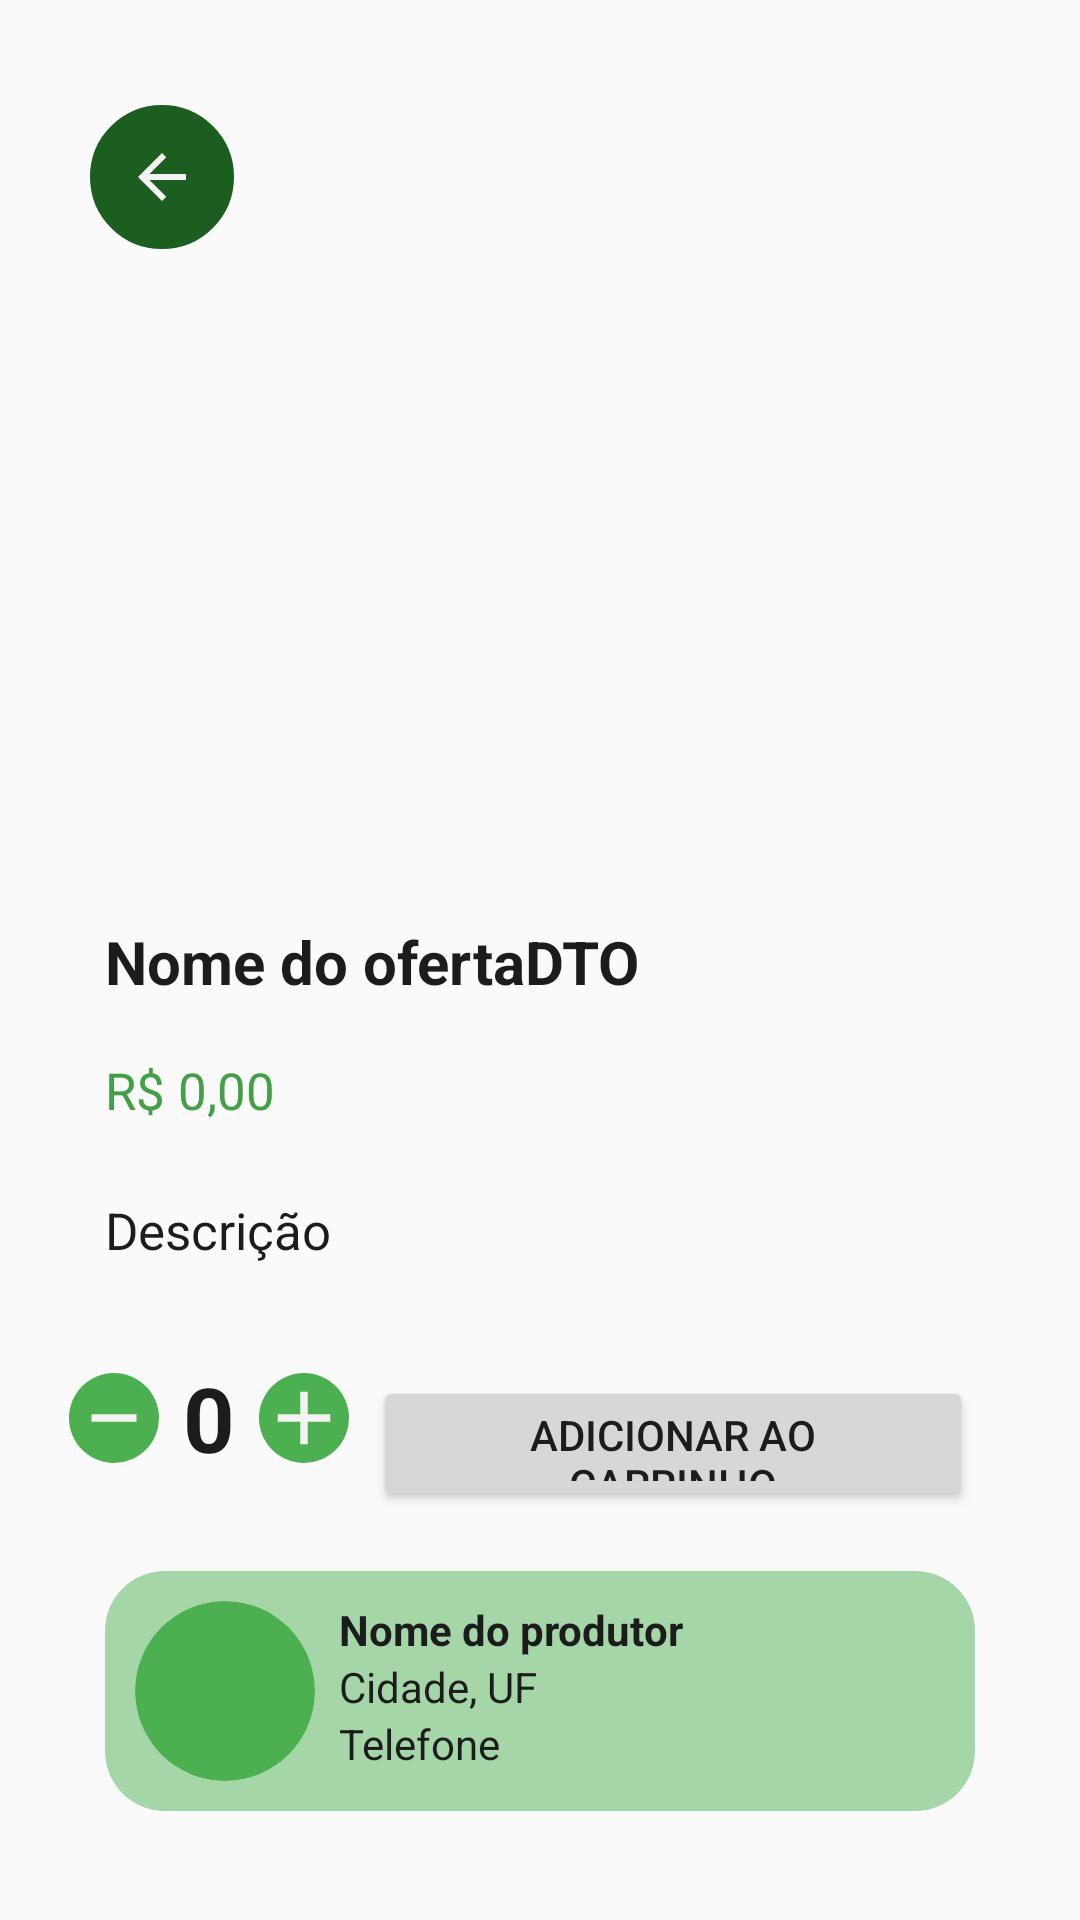

Icon click points for this 1080x1920 phone screenshot, format point (x, y):
add: point (304, 1418)
back: point (162, 177)
remove: point (114, 1418)
